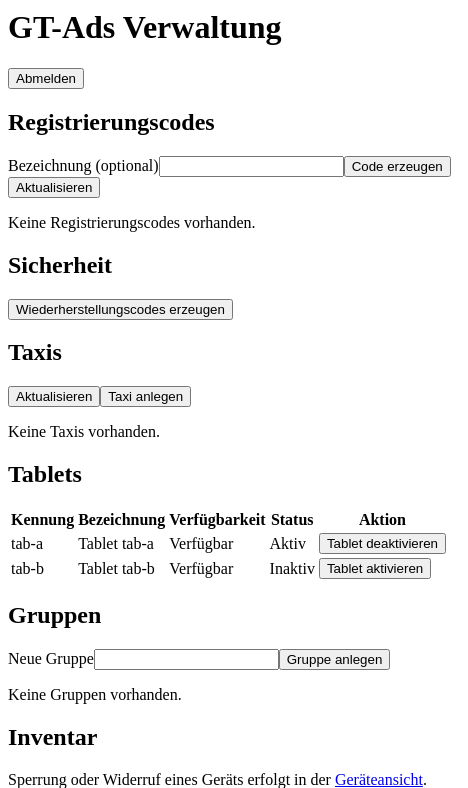
Test: CX-140 Tablet-Aktivzustand ändern › erzeugt während einer laufenden Änderung genau eine Anfrage und lässt das zweite Tablet unverändert
The width and height of the screenshot is (468, 788).
Later steps or results of the test are not shown.
Expected: the text "tab-a" is shown, [10,532,75,555]
Click the button "Tablet deaktivieren" at (382, 544), box [319,533,446,554]
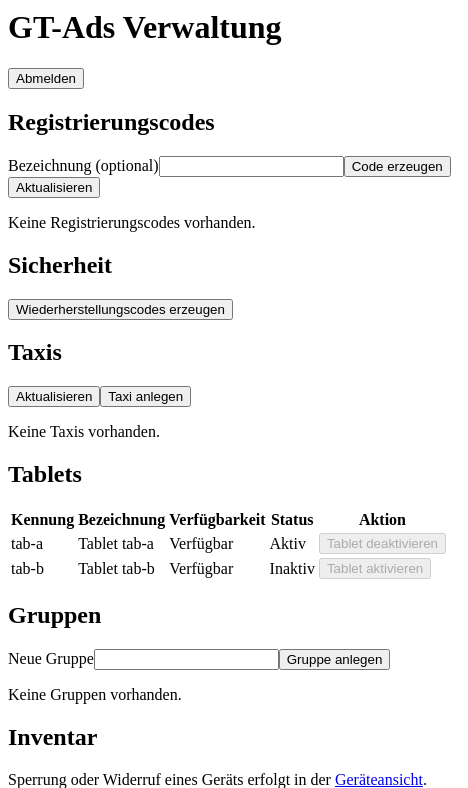
Click the button "Tablet deaktivieren" at (382, 544), box [319,533,446,554]
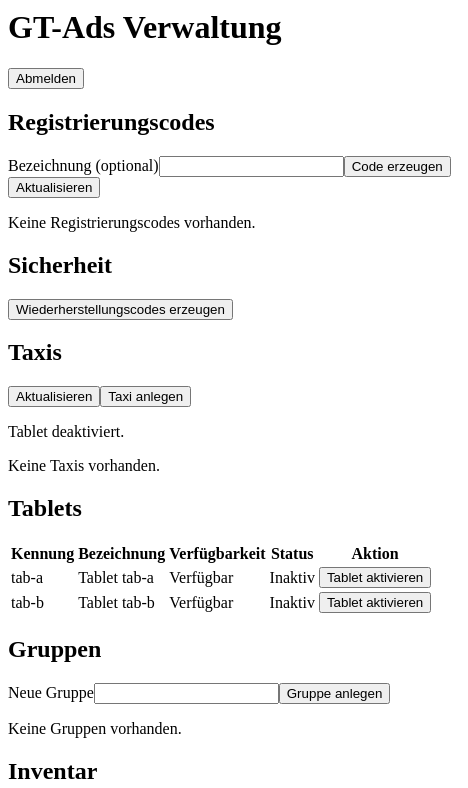
Expected: the text "tab-a" is shown, [11,569,43,586]
Result: the text "Tablet deaktiviert." is shown at [8,423,124,440]
Result: the text "tab-a" shows "Inaktiv" at [270,569,315,586]
